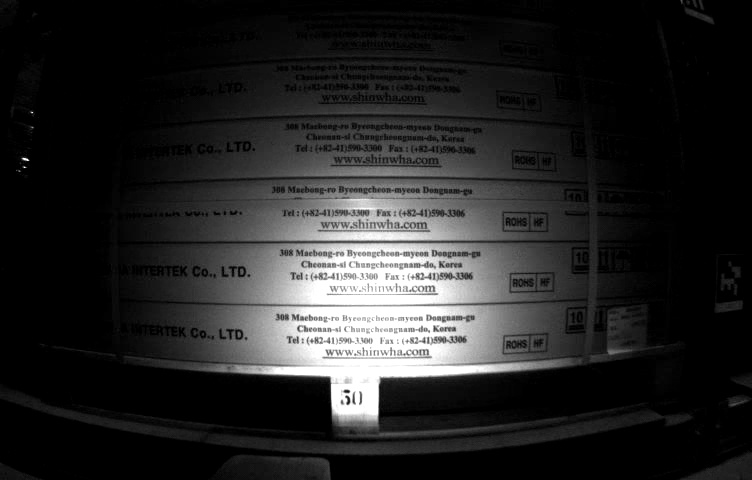True Barcode: (607, 305, 651, 352)
